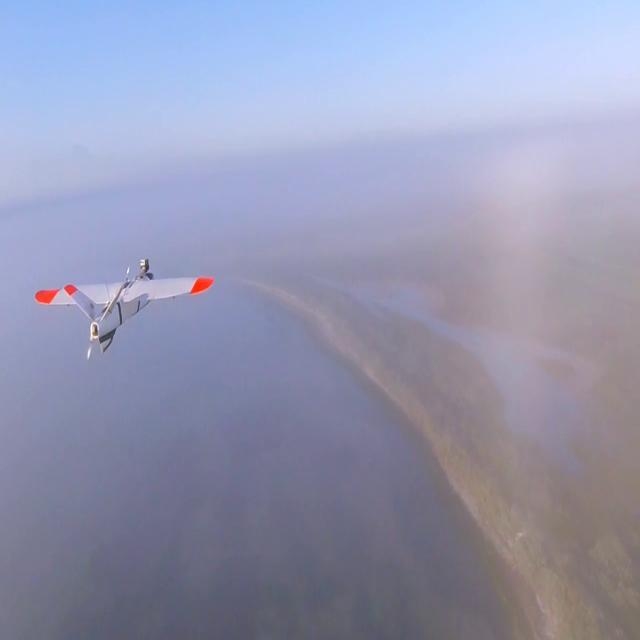iha: (0, 292, 151, 318)
